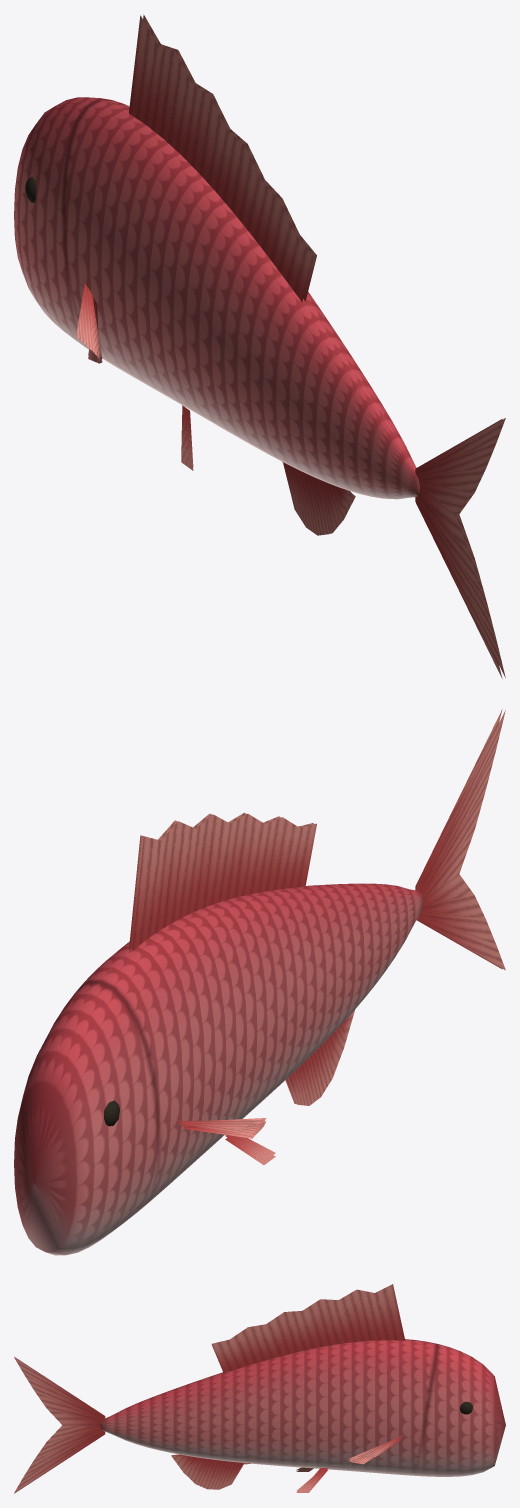
File: HO_Fish_Tai.fbx
3 views of the same model, one above another, from view 1: azimuth 30°, elevation 25°; view 2: azimuth 150°, elevation 25°; view 3: azimuth 270°, elevation 25° (orthographic). The views are drawn at different scales.
Visible parts, largest first — view 1: HO_Fish_Tai__Fish_Tai, HO_Fish_Tai__Fish_Fin_Red; view 2: HO_Fish_Tai__Fish_Tai, HO_Fish_Tai__Fish_Fin_Red; view 3: HO_Fish_Tai__Fish_Tai, HO_Fish_Tai__Fish_Fin_Red.
Part boxes in pixels (box(x1,y1,x2,y2)): HO_Fish_Tai__Fish_Tai: box(14, 97, 419, 499); HO_Fish_Tai__Fish_Fin_Red: box(76, 14, 505, 678); HO_Fish_Tai__Fish_Tai: box(14, 883, 423, 1255); HO_Fish_Tai__Fish_Fin_Red: box(129, 709, 505, 1164); HO_Fish_Tai__Fish_Tai: box(100, 1339, 505, 1476); HO_Fish_Tai__Fish_Fin_Red: box(14, 1284, 404, 1493).
Size of the model in its own units: 0.3932 by 0.9154 by 1.95.
